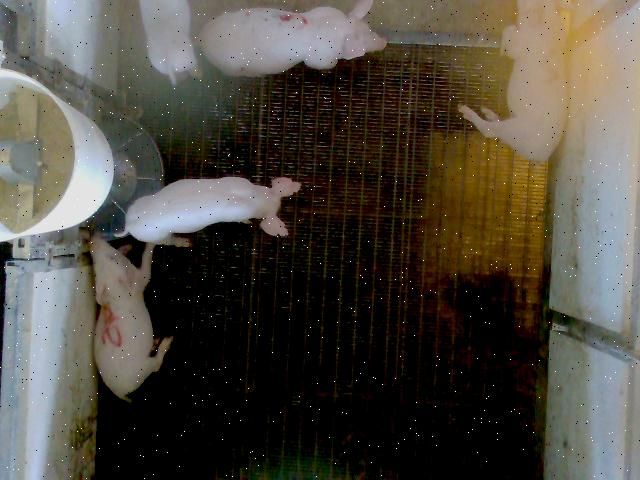pig-2: (459, 1, 568, 161)
pig-3: (198, 1, 386, 76)
pig-5: (89, 236, 172, 402)
